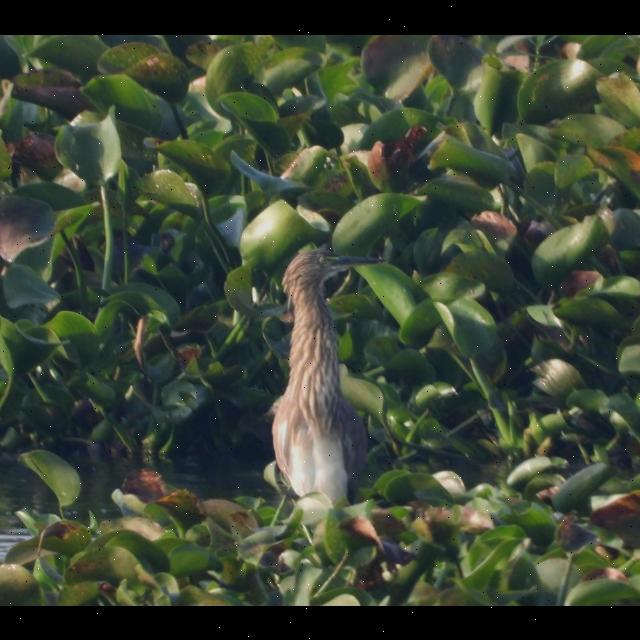heron: (260, 238, 392, 502)
